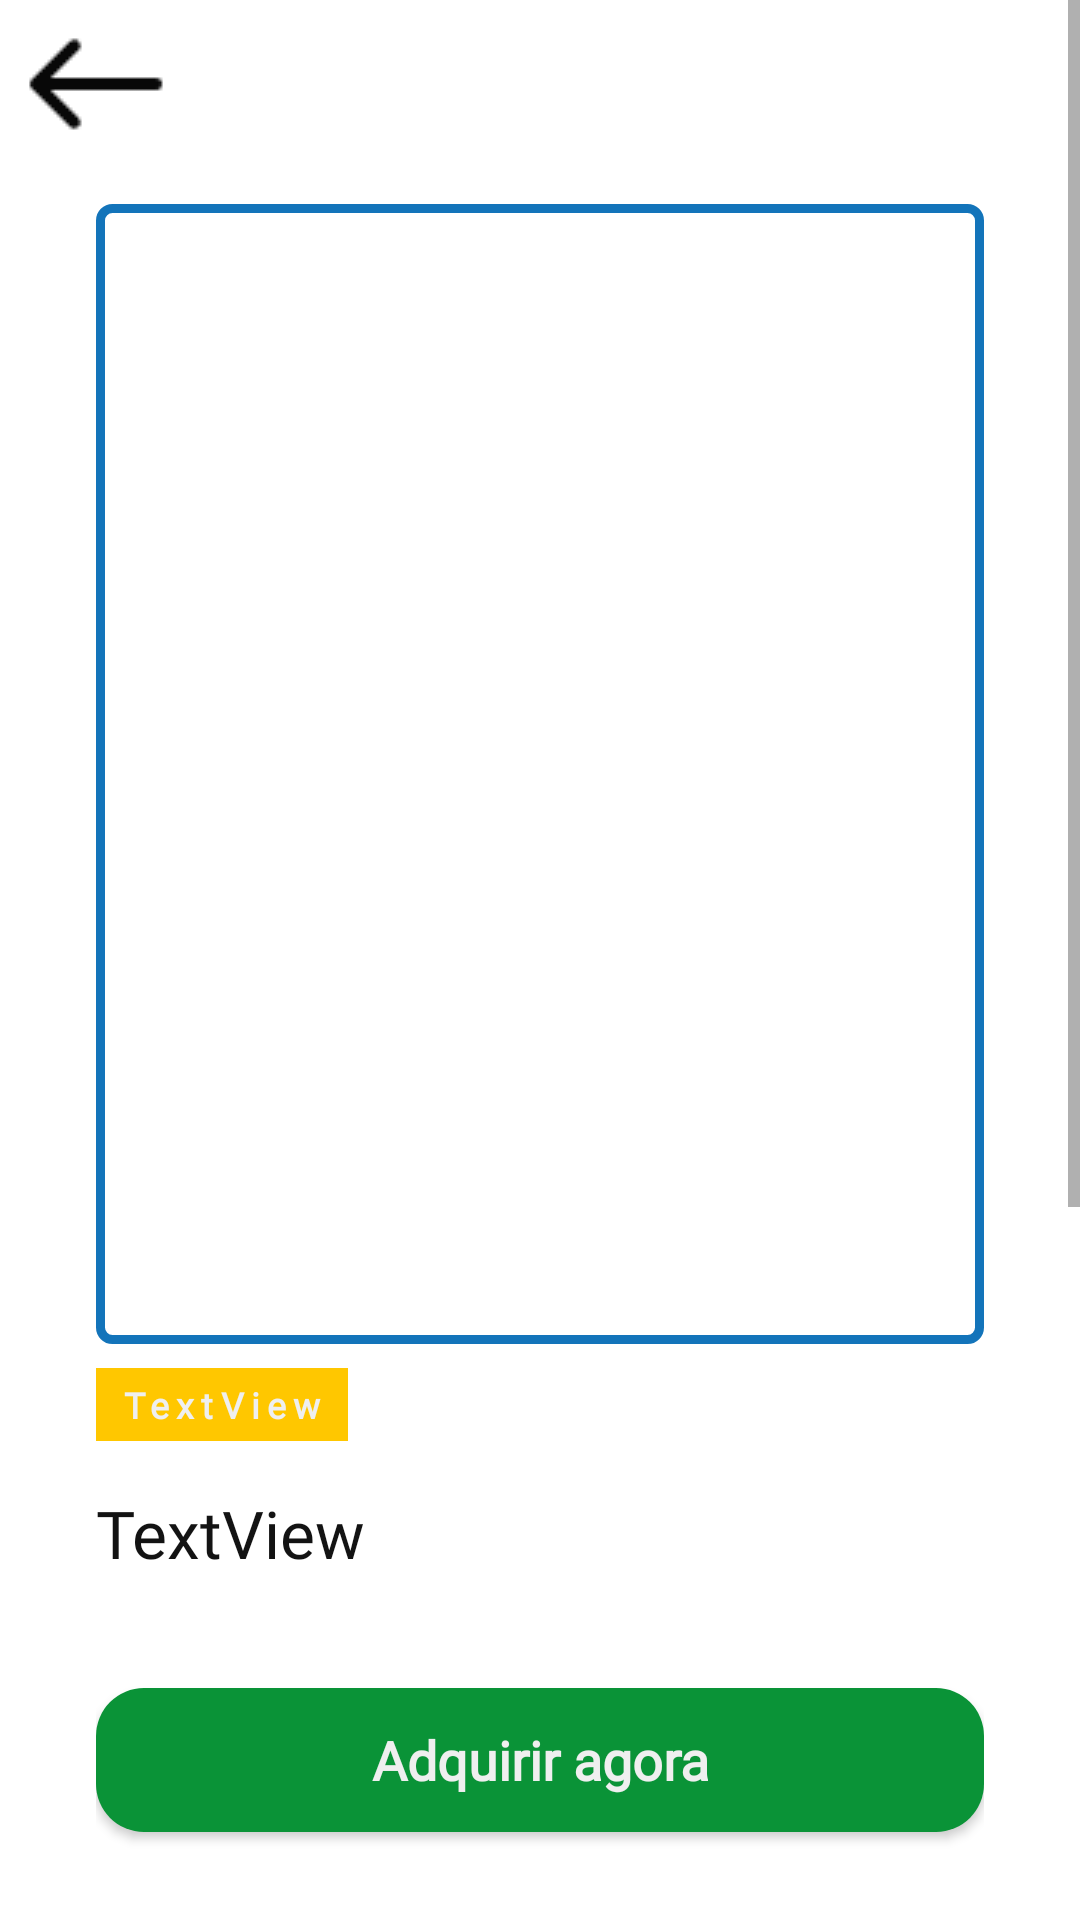

Screen size 1080x1920. Icon name, then its box in pixels as (x1, y1, x2, y2):
left arrow: (29, 38, 163, 130)
